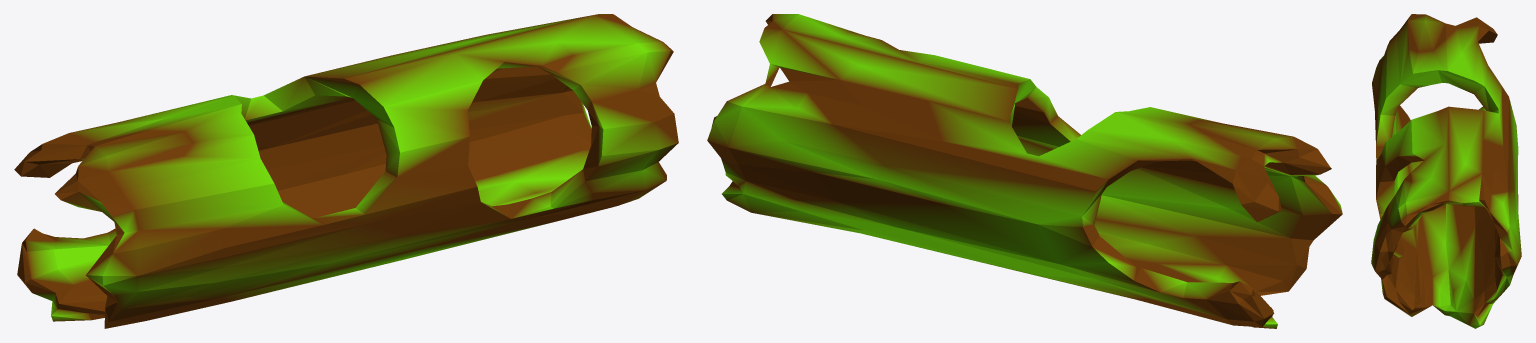
File: S_Driftwood.fbx
The picture shows the model from 3 angles, left to right: view 1: azimuth 30°, elevation 25°; view 2: azimuth 150°, elevation 25°; view 3: azimuth 270°, elevation 25°; orthographic projection. The views are drawn at different scales.
Parts seen in each view (by area): view 1: drifting_wood; view 2: drifting_wood; view 3: drifting_wood.
Boxes of the visible parts, left/top/right/bottom form: drifting_wood: left=14, top=14, right=678, bottom=328; drifting_wood: left=707, top=14, right=1342, bottom=328; drifting_wood: left=1371, top=14, right=1521, bottom=328.
Bounding box in the file's own units: 158 × 45.9 × 47.72.
